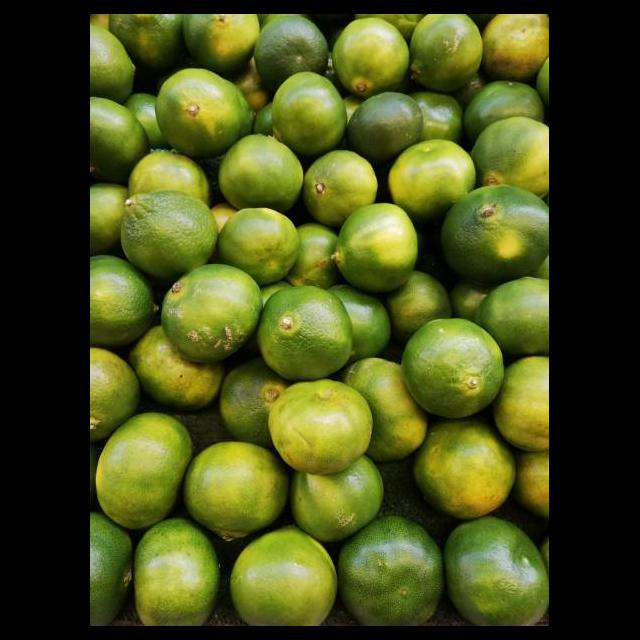lime: (158, 263, 268, 369), (122, 191, 222, 279), (272, 71, 348, 160)
